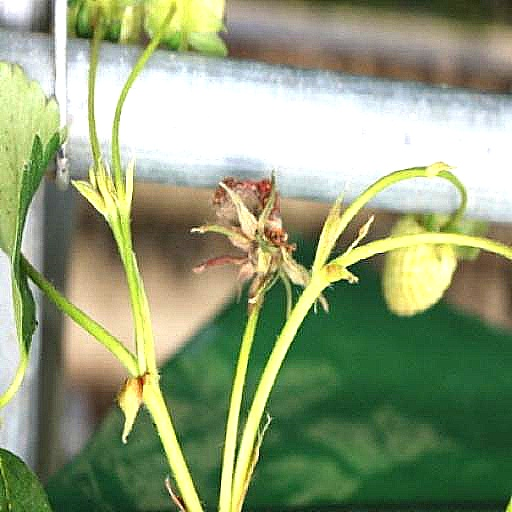Gray Mold: (191, 199, 307, 341)
